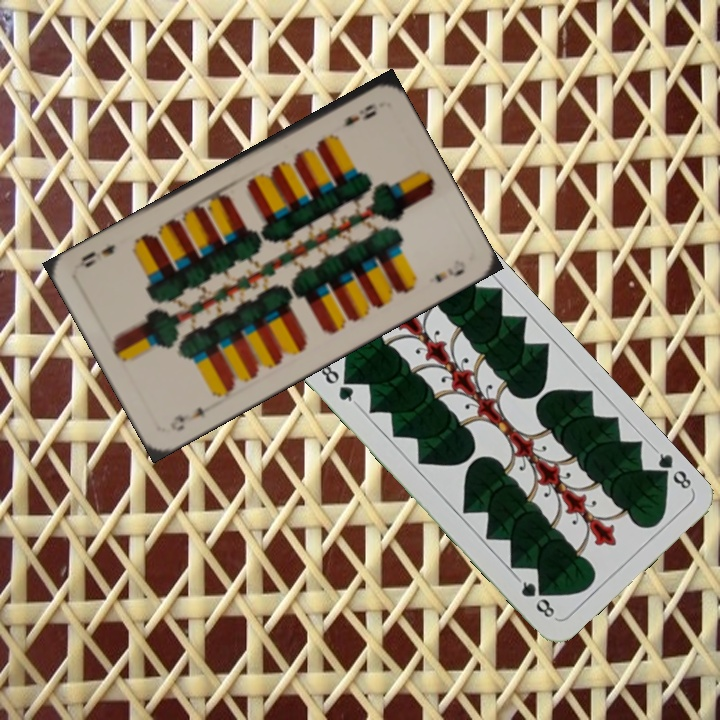E9: (166, 402, 207, 434), (340, 99, 379, 130)
G8: (315, 360, 360, 407), (650, 445, 694, 492)
